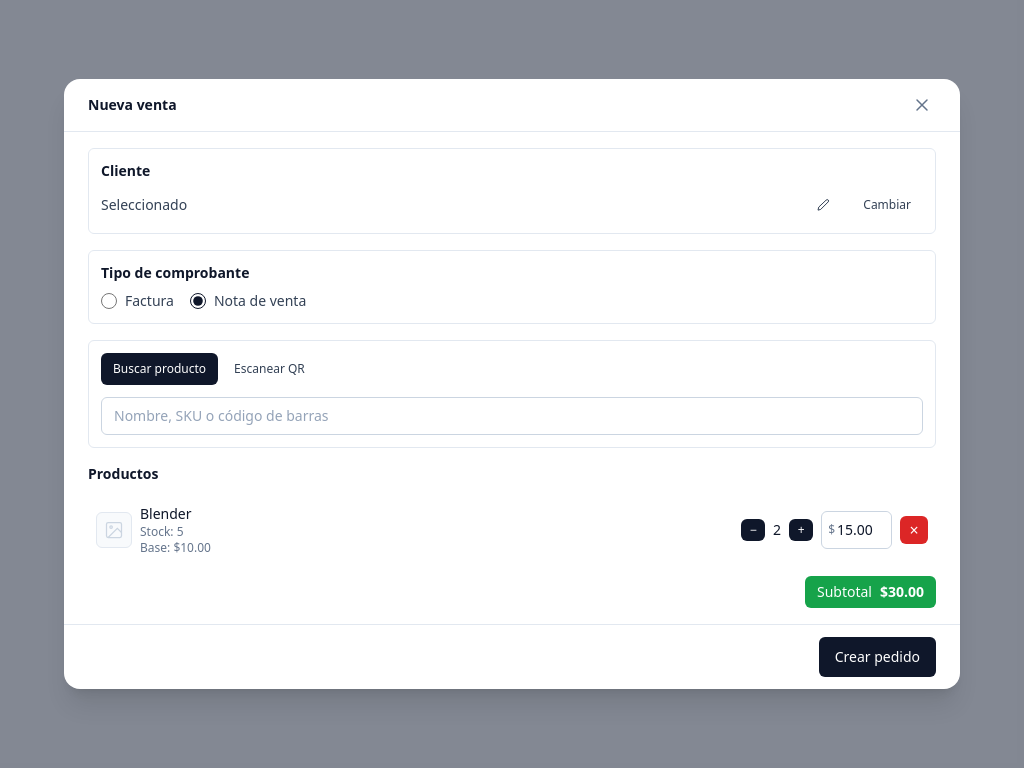
Test: ProductCartModal › photo preview (same click-the-photo summary as /products) › says "Editar producto" for a caller who can manage products
The image size is (1024, 768).
Step 1. Click the button named "Ver foto y resumen de Blender" → (114, 530), box left=96, top=512, right=132, bottom=548
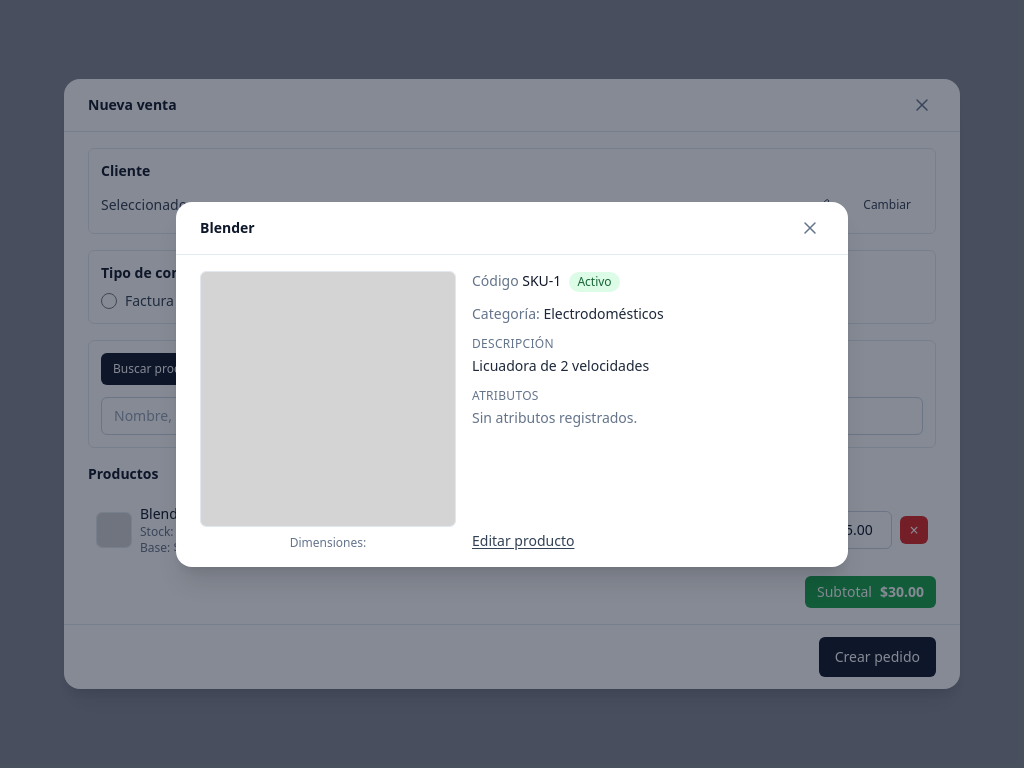
Result: the link "Editar producto" is shown at left=472, top=530, right=574, bottom=550
